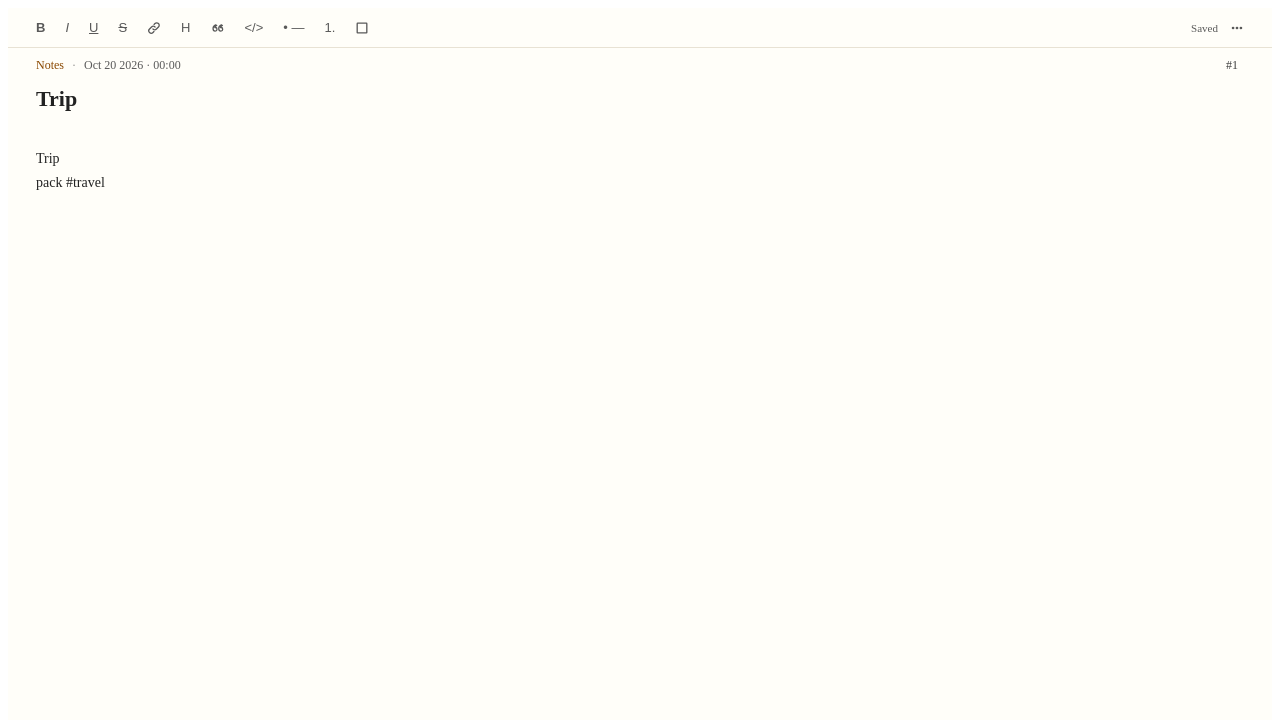
it: Tags popover in the editor › iCloud: no input, no ×, hint shown
This screenshot has width=1280, height=720.
Click the button with class "meta-tags" at (1232, 65), box [1220, 56, 1244, 74]
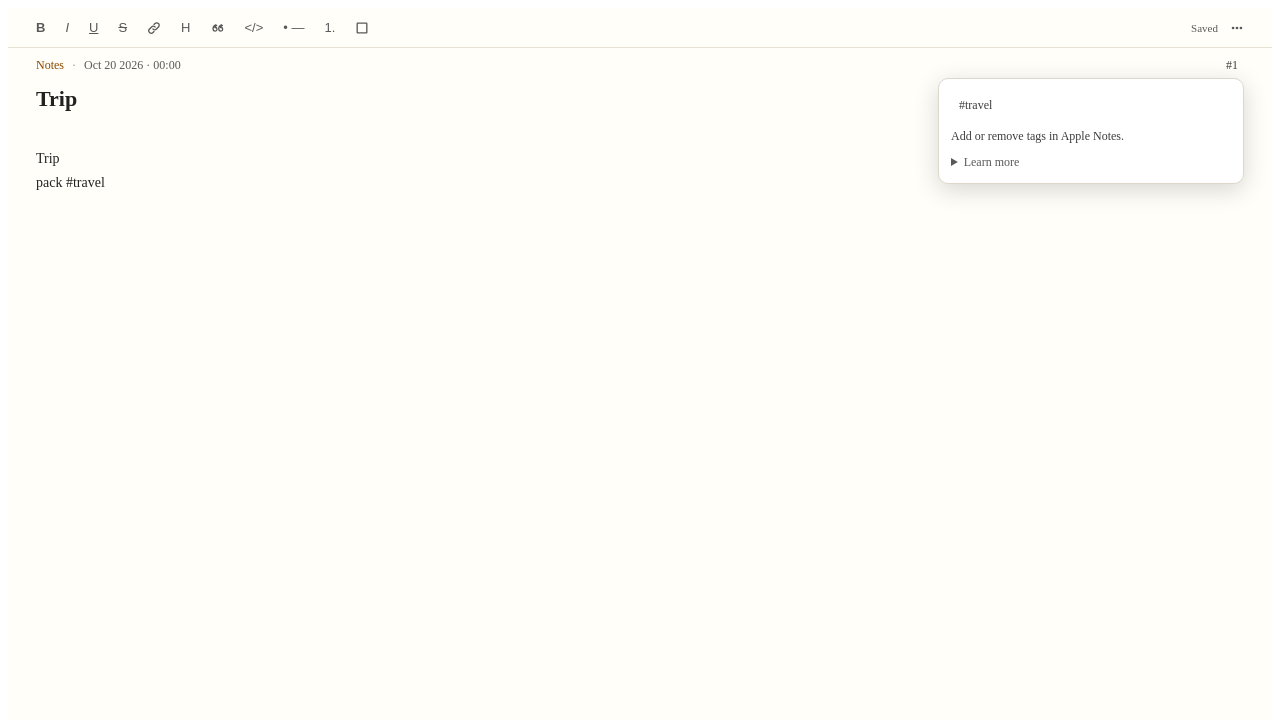
Expected: the dialog with test id "tags-popover" shows "Add or remove tags in Apple Notes.", [951, 129, 1124, 143]
Expected: the heading "Learn more" is shown, [964, 155, 1019, 169]
